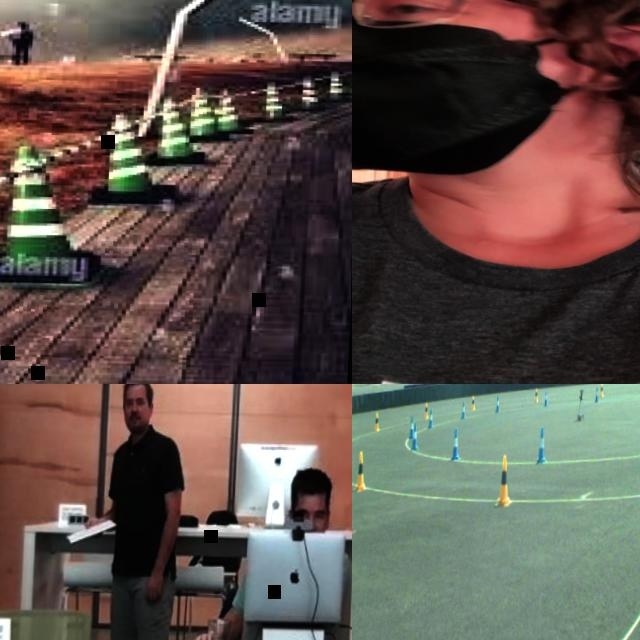Mask: (352, 5, 603, 182)
NO-Hardhat: (289, 466, 334, 507), (122, 384, 152, 399)
NO-Mask: (124, 409, 150, 435)
NO-Safety Vest: (352, 167, 640, 384), (107, 433, 186, 582), (13, 33, 34, 51)
Person: (352, 0, 640, 384), (82, 384, 189, 640), (190, 462, 335, 640), (5, 22, 35, 63)
Safety Cone: (0, 146, 104, 293), (80, 116, 186, 214), (137, 98, 207, 166), (173, 88, 225, 150), (206, 81, 249, 141), (293, 76, 328, 117), (261, 85, 293, 126), (496, 456, 512, 508), (324, 72, 352, 97), (355, 449, 367, 492), (537, 428, 547, 464), (451, 429, 461, 460), (411, 425, 419, 451), (409, 416, 414, 439), (375, 412, 380, 432), (429, 410, 434, 429), (349, 67, 352, 94), (594, 387, 599, 402), (424, 403, 429, 418), (534, 388, 539, 402), (599, 384, 604, 397), (496, 396, 500, 412), (461, 403, 465, 419), (544, 392, 548, 407), (472, 396, 475, 410)
